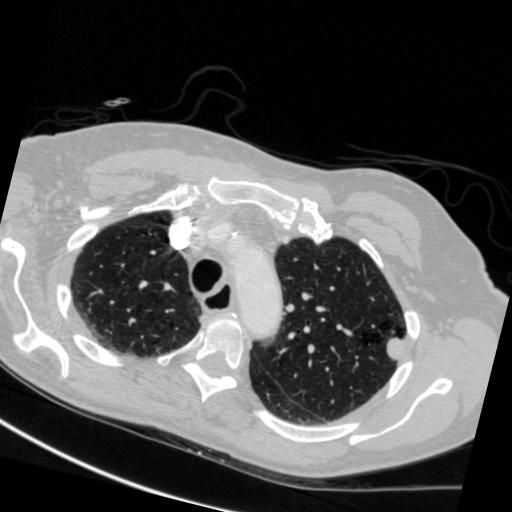nodule: (381, 333, 411, 363)
